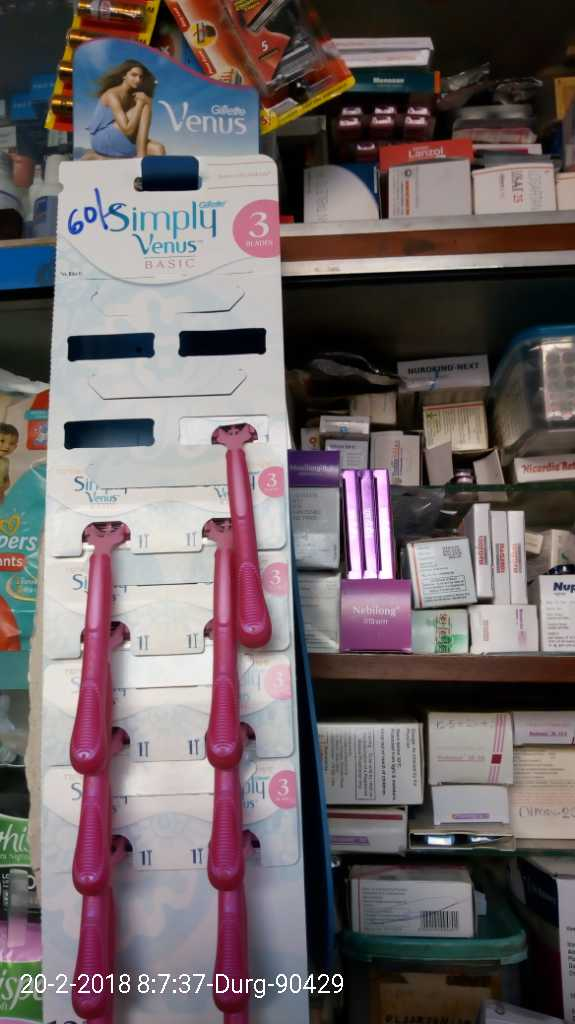reject: (272, 242, 397, 408)
